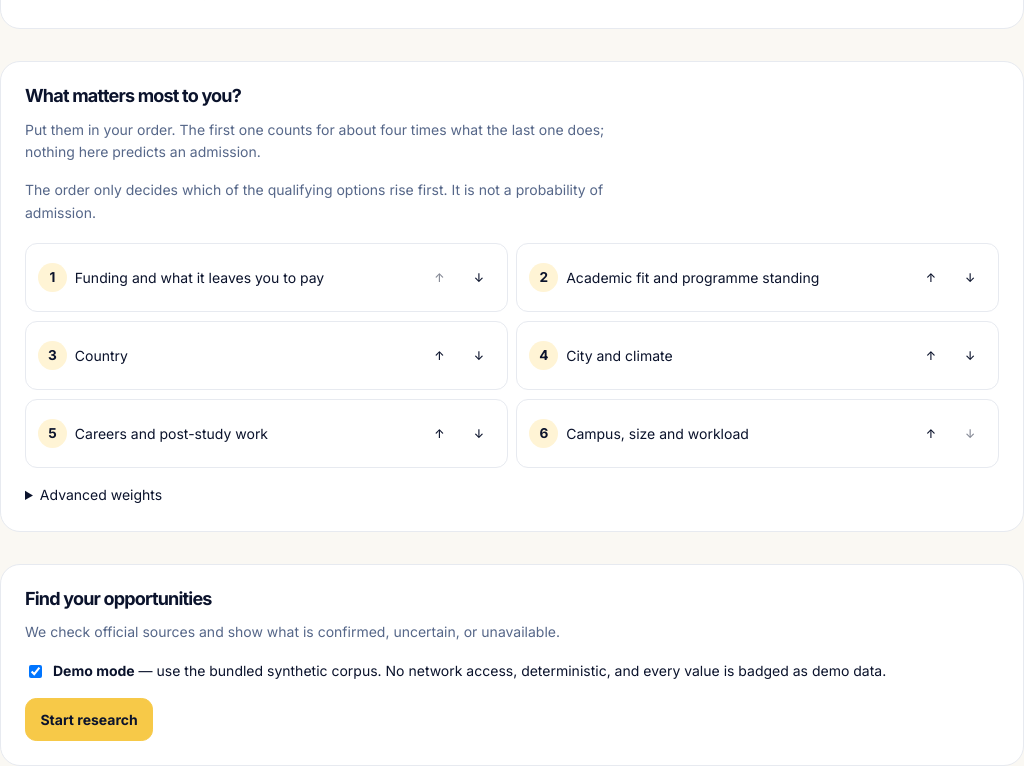
it: the live-mode disclosure › still warns about live mode when coverage is unknown
This screenshot has width=1024, height=766.
(page scrolled)
Click the checkbox with test id "demo-toggle": [36, 671] box [29,665,42,678]
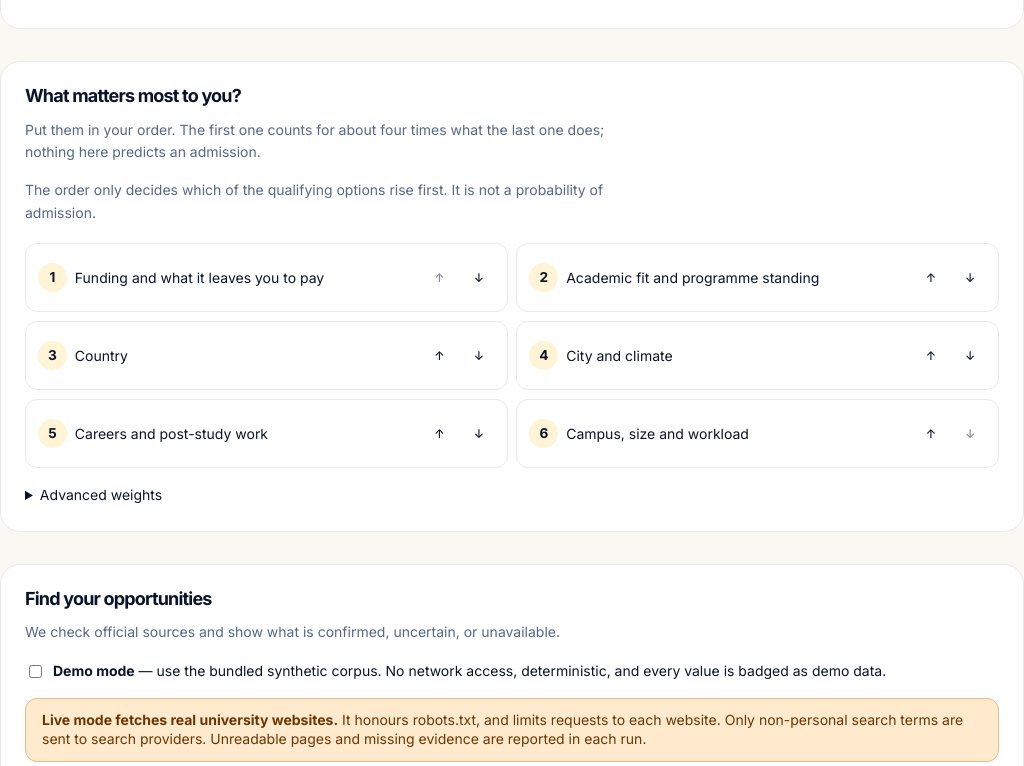
Expected: the element with test id "live-mode-notice" shows "fetches real university websites", [42,711,338,728]
